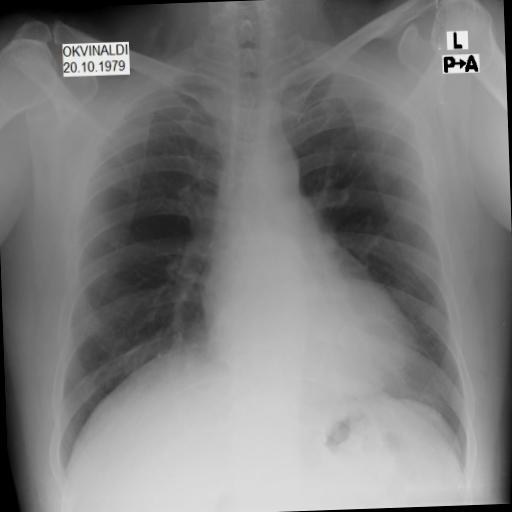kardiomegali: (183, 200, 435, 415)
